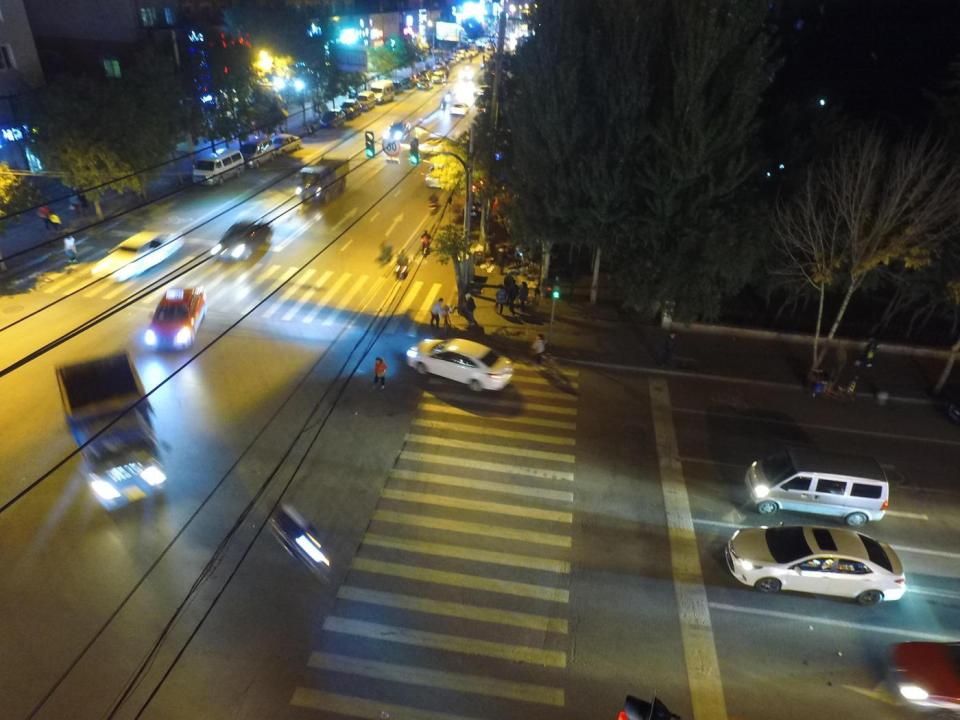car: (725, 521, 906, 607), (407, 338, 515, 391), (92, 231, 182, 281), (142, 286, 206, 350), (211, 219, 273, 260), (270, 134, 302, 156), (426, 165, 450, 189), (388, 120, 412, 141), (319, 109, 345, 128), (463, 198, 484, 218), (341, 100, 362, 119), (450, 103, 469, 117), (430, 70, 446, 84), (418, 78, 430, 89)
truck: (56, 348, 168, 510), (296, 155, 349, 205)
van: (744, 447, 888, 528), (193, 147, 244, 187), (240, 138, 276, 169), (372, 78, 396, 104), (357, 91, 375, 111)
